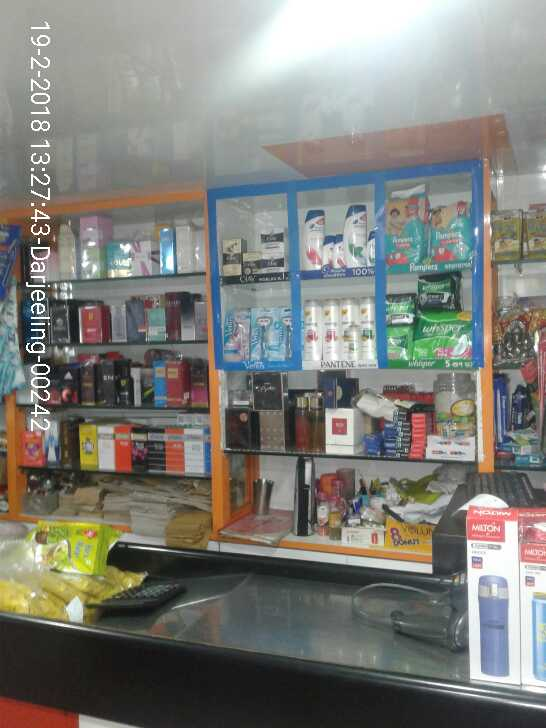venus: (248, 307, 278, 363), (222, 307, 248, 362), (277, 307, 293, 363)
